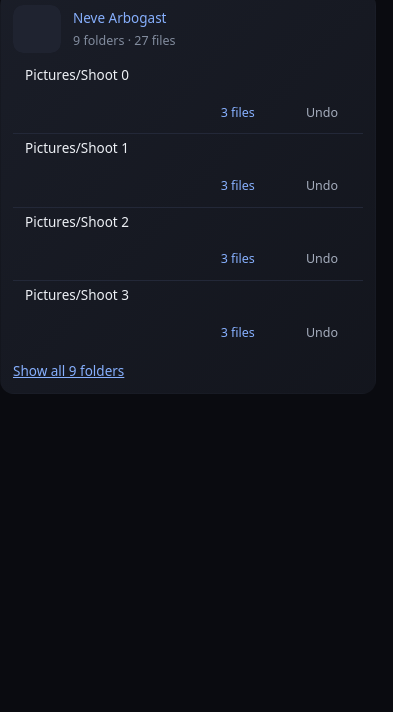
Test: folds a long list away, and opens it when asked
Click the button "Show all 9 folders": (69, 371) [13,361,124,381]
(page scrolled)
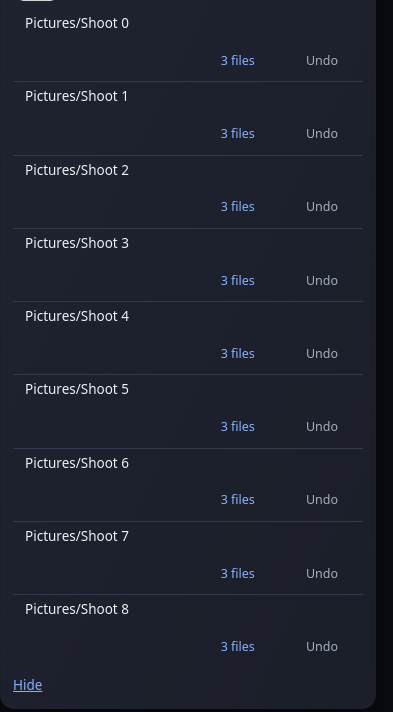
expect the button "Hide" is expanded: met, box [13,675,42,696]
